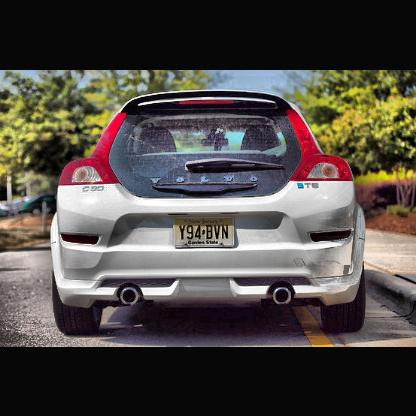Volvo C30 Hatchback 2012: (55, 91, 370, 339)
